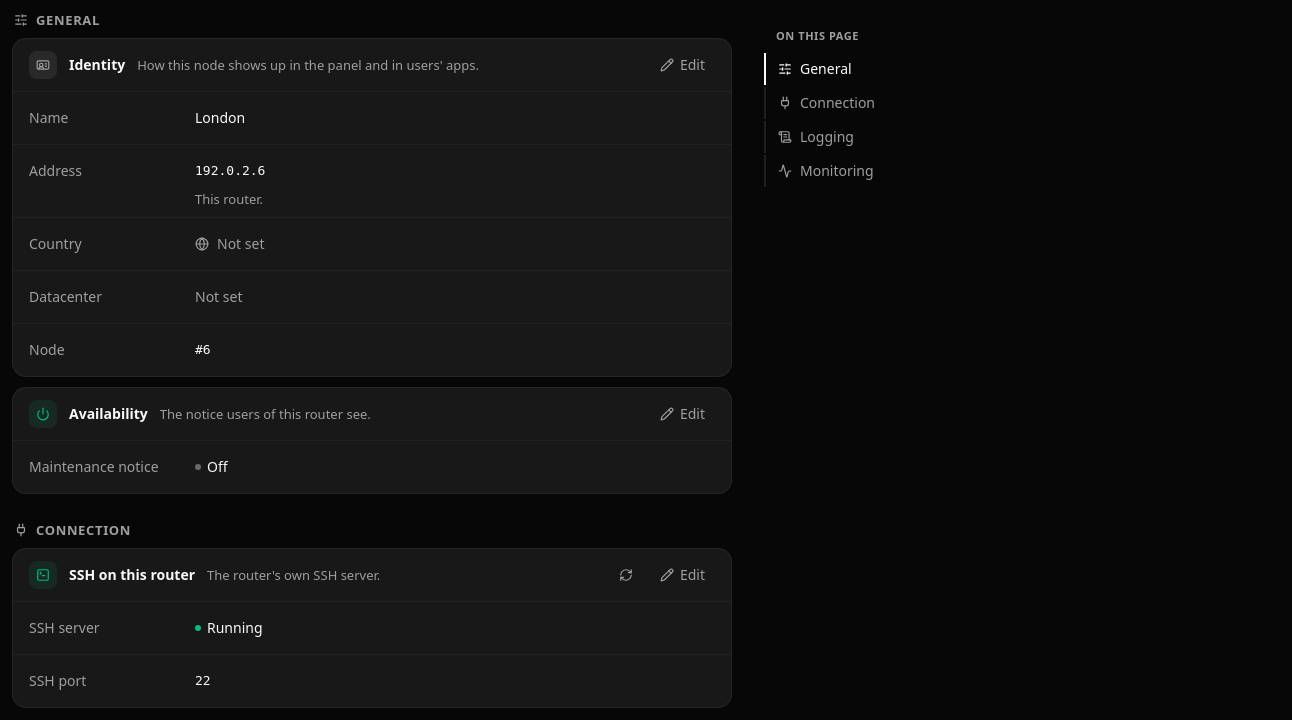
Test: node settings page › cancel puts a group back as it was
Click the button with aria-label "Edit Identity".
click(682, 65)  # box x1=650 y1=49 x2=715 y2=81
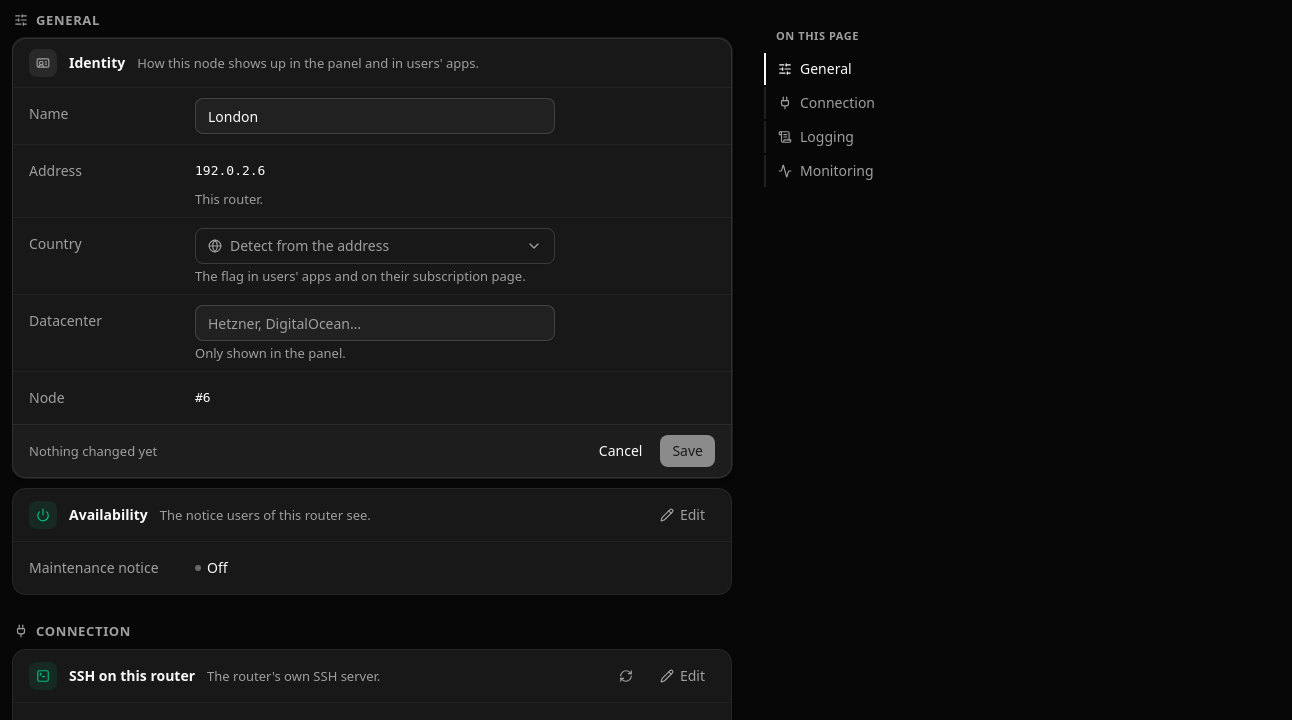
Type " draft" into the field labelled "Name".
click(375, 116); type(" draft")  # box x1=195 y1=98 x2=555 y2=134
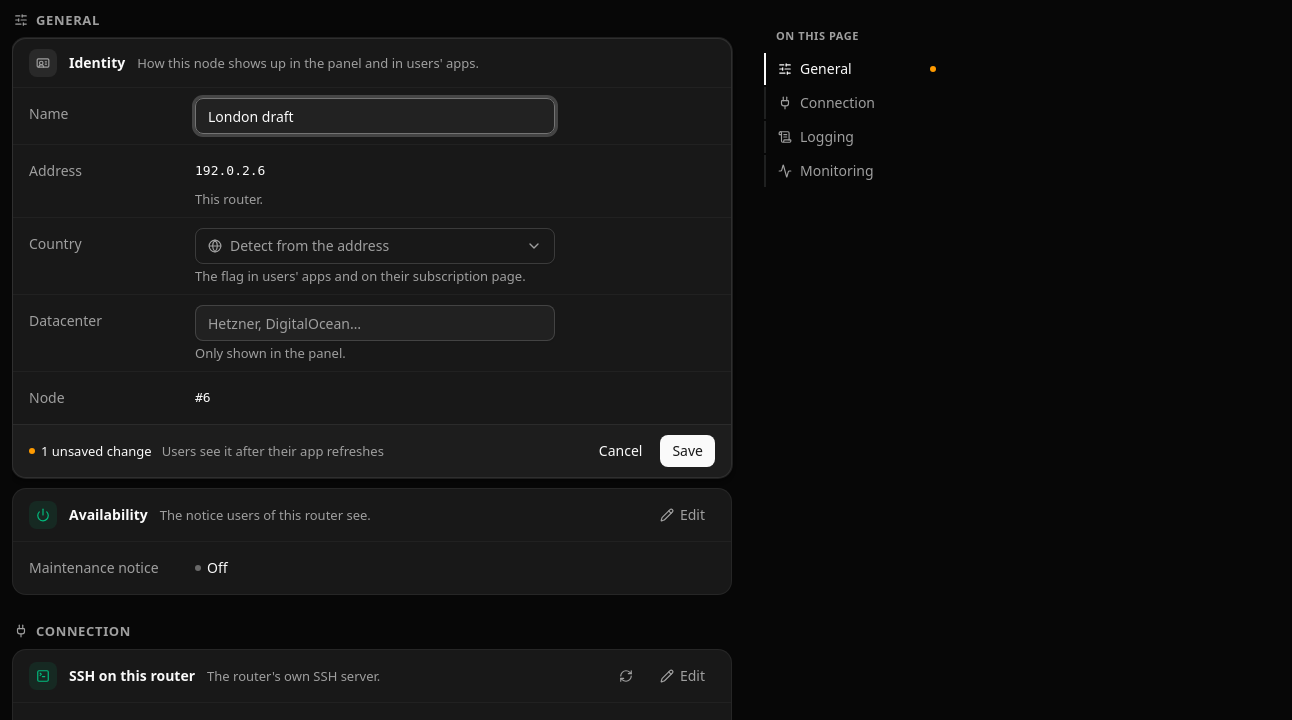
Click the button "Cancel".
click(621, 451)  # box x1=587 y1=435 x2=654 y2=467
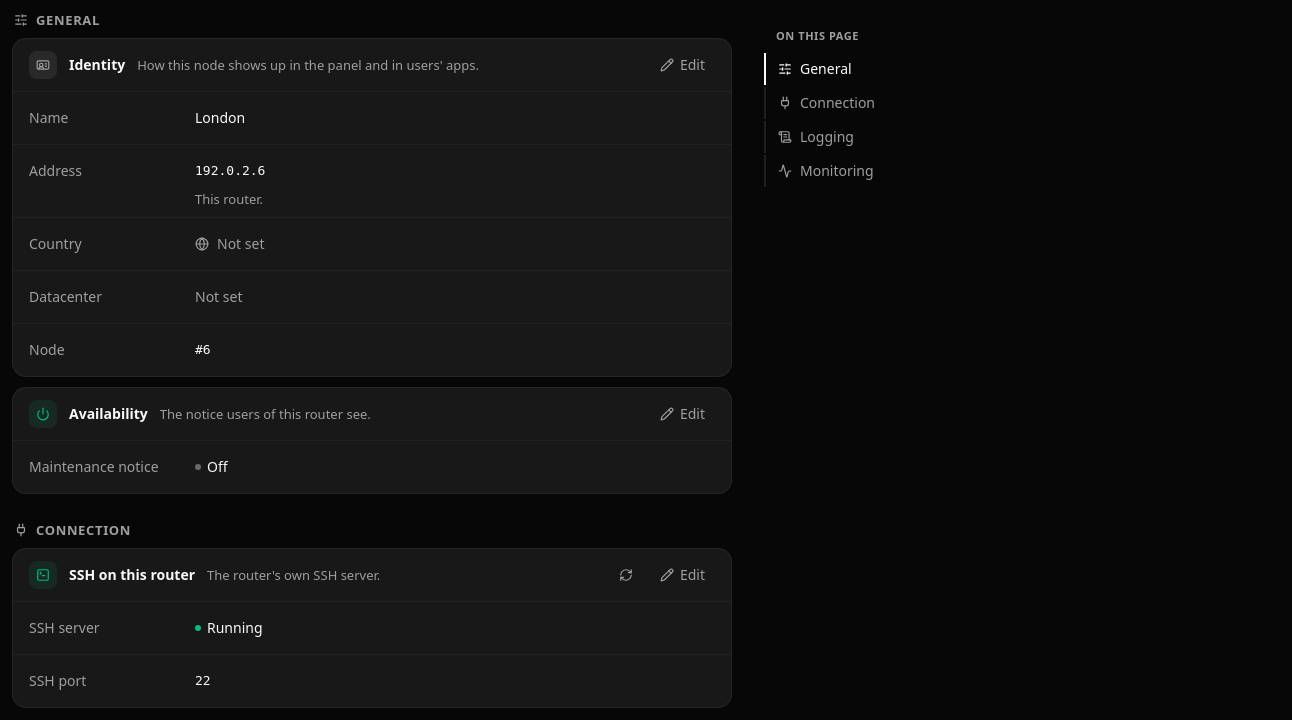
Result: the text "London" is shown at x1=195 y1=108 x2=245 y2=128
